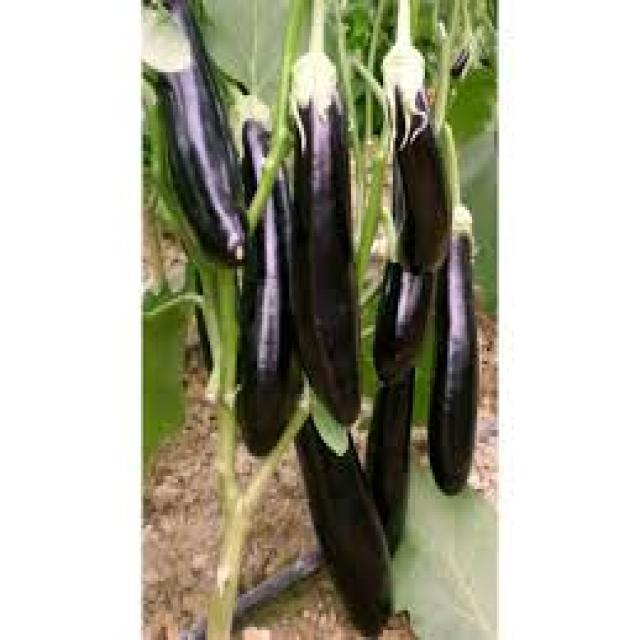eggplant: (138, 16, 247, 256), (286, 69, 361, 417), (296, 401, 391, 630), (237, 95, 292, 453), (383, 43, 447, 269), (430, 204, 474, 496)
